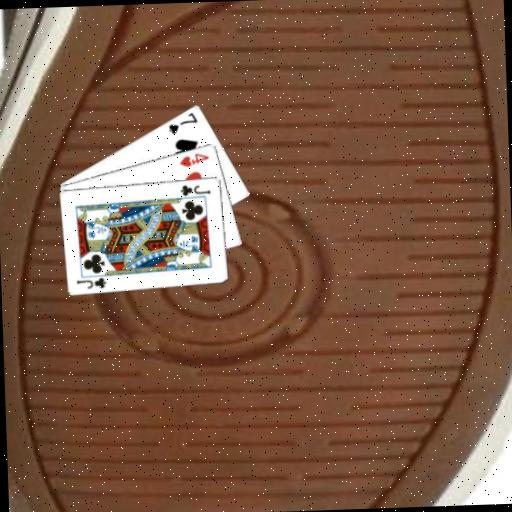4H: (176, 149, 210, 168)
7S: (165, 109, 199, 136)
JC: (177, 180, 212, 197), (73, 274, 108, 291)
